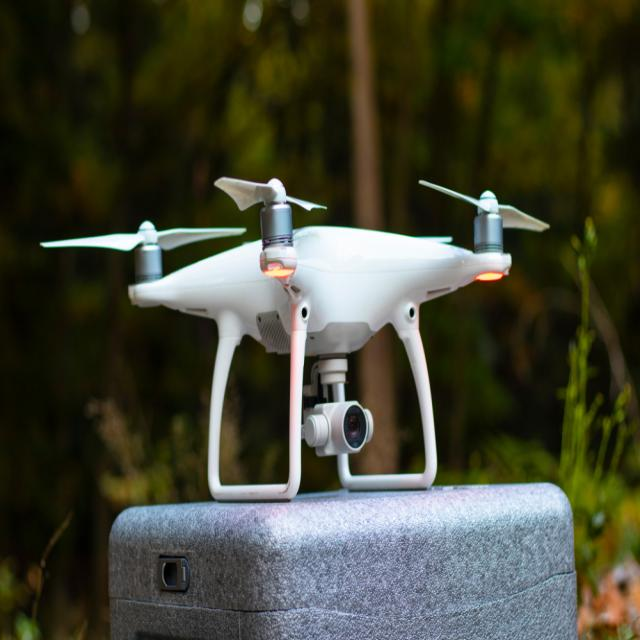drone: (37, 174, 551, 497)
